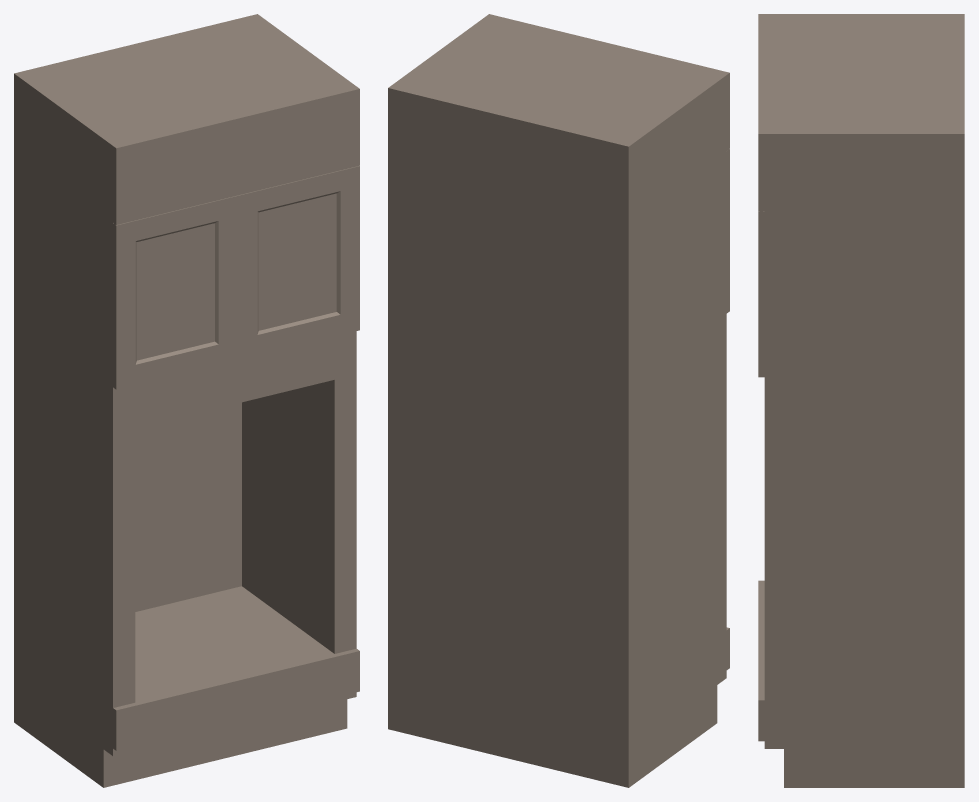
Rendered from WHP-Double-Tall-Oven-Cabinet.std.glb.
3 renders of one model, left to right at view 1: azimuth 30°, elevation 25°; view 2: azimuth 150°, elevation 25°; view 3: azimuth 270°, elevation 25°, orthographic. The views are drawn at different scales.
Visible parts, largest first — view 1: WHP-Double-Tall-Oven-Cabinet.std.001; view 2: WHP-Double-Tall-Oven-Cabinet.std.001; view 3: WHP-Double-Tall-Oven-Cabinet.std.001.
Part boxes in pixels (left/top/right/bottom): WHP-Double-Tall-Oven-Cabinet.std.001: left=14, top=14, right=359, bottom=787; WHP-Double-Tall-Oven-Cabinet.std.001: left=388, top=14, right=729, bottom=787; WHP-Double-Tall-Oven-Cabinet.std.001: left=758, top=14, right=964, bottom=787.
Size of the model in its own units: 0.8382 by 2.13 by 0.6096.
